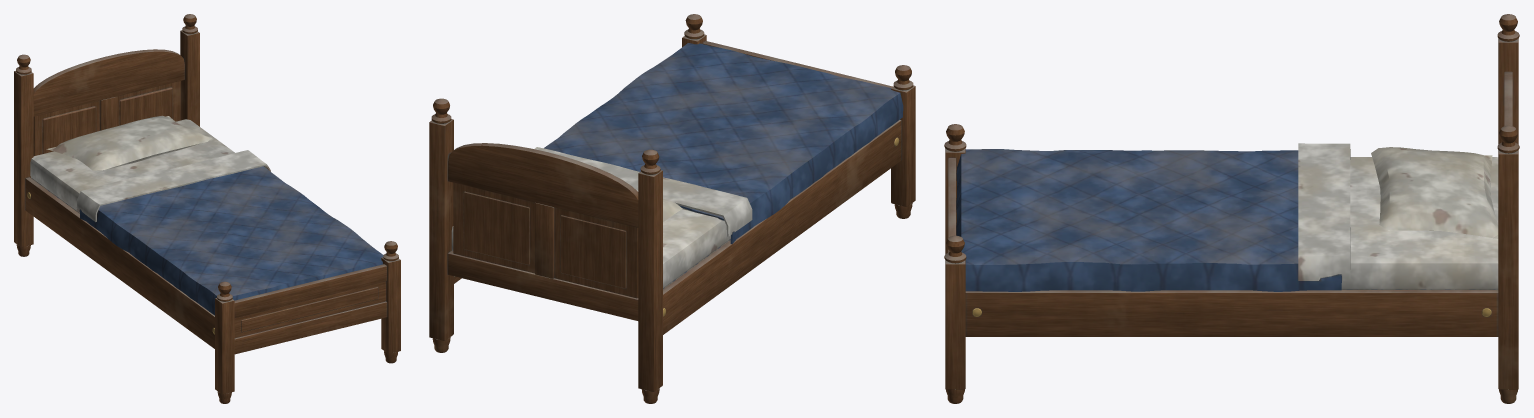
The model's file is cama_solteiro.glb.
The picture shows the model from 3 angles, left to right: view 1: azimuth 30°, elevation 25°; view 2: azimuth 150°, elevation 25°; view 3: azimuth 270°, elevation 25°; orthographic projection. The views are drawn at different scales.
Parts seen in each view (by area): view 1: roupa_de_cama, estrutura; view 2: estrutura, roupa_de_cama; view 3: roupa_de_cama, estrutura.
Boxes of the visible parts, x1,y1,x2,y2 form: roupa_de_cama: [30, 115, 383, 315]; estrutura: [14, 14, 400, 403]; estrutura: [429, 14, 915, 403]; roupa_de_cama: [451, 43, 903, 288]; roupa_de_cama: [956, 143, 1498, 291]; estrutura: [944, 14, 1519, 403].
Bounding box in the file's own units: 0.99 × 1.05 × 1.99.
Materials: 2 (2 with a texture image).
